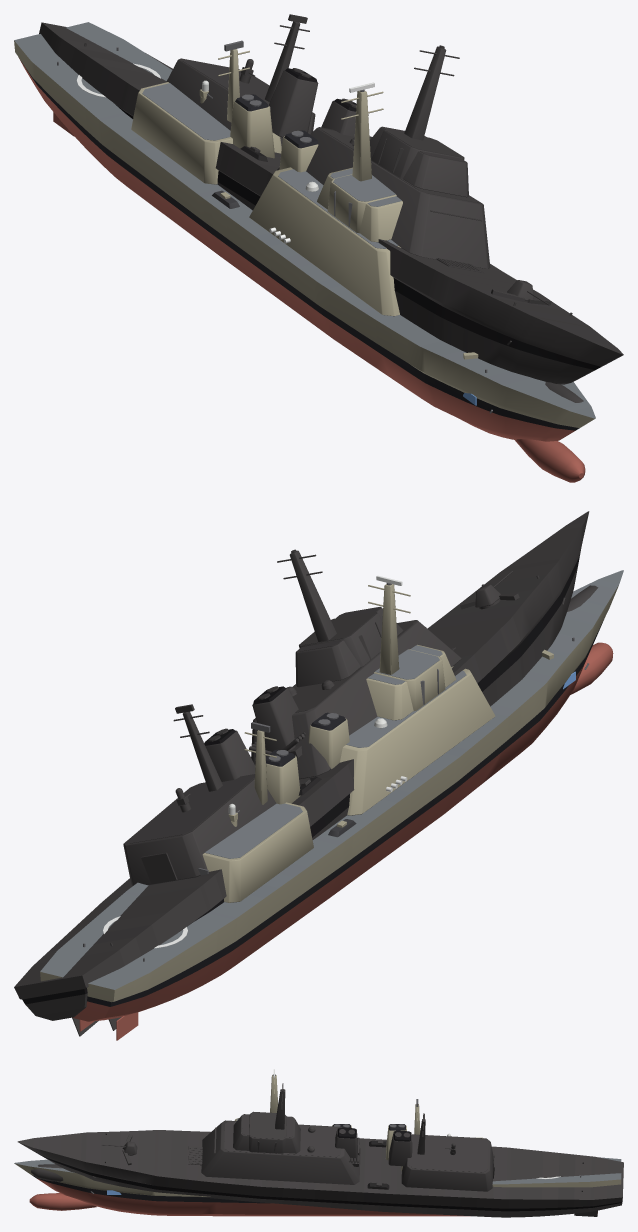
The model's file is destroyer__hobart_class.glb.
3 renders of one model, top to bottom at view 1: azimuth 30°, elevation 25°; view 2: azimuth 150°, elevation 25°; view 3: azimuth 270°, elevation 25°, orthographic. The views are drawn at different scales.
Parts seen in each view (by area): view 1: Hull_Mesh, Wreck; view 2: Hull_Mesh, Wreck; view 3: Wreck, Hull_Mesh.
Boxes of the visible parts, bbox=[...] form: Hull_Mesh: bbox=[14, 22, 595, 482]; Wreck: bbox=[39, 14, 623, 402]; Hull_Mesh: bbox=[40, 570, 623, 1040]; Wreck: bbox=[14, 511, 598, 1036]; Wreck: bbox=[17, 1083, 623, 1217]; Hull_Mesh: bbox=[14, 1075, 621, 1216].
Size of what is drawn, in the model's own units: 26.27 by 40.74 by 154.
